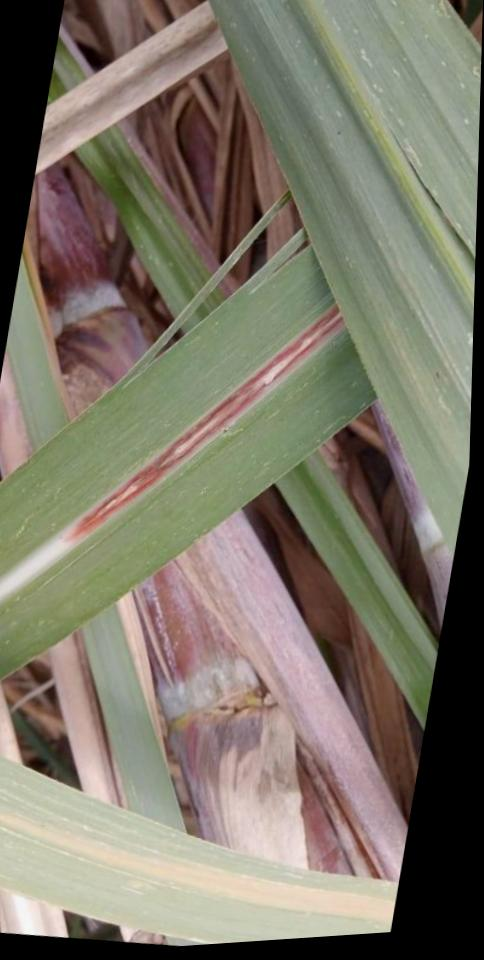RedRot: (62, 305, 345, 544)
